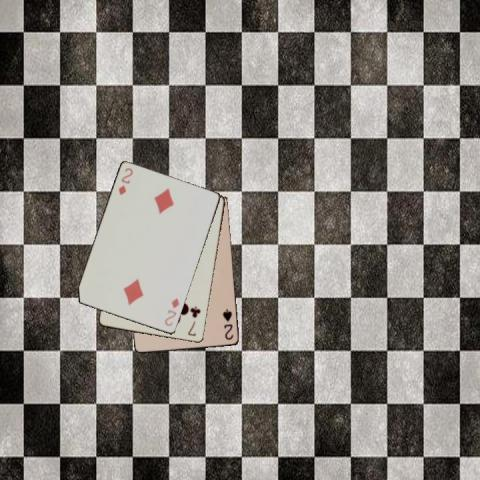2d: (161, 295, 181, 328), (115, 165, 135, 197)
2s: (220, 306, 235, 341)
7c: (185, 304, 202, 337)
